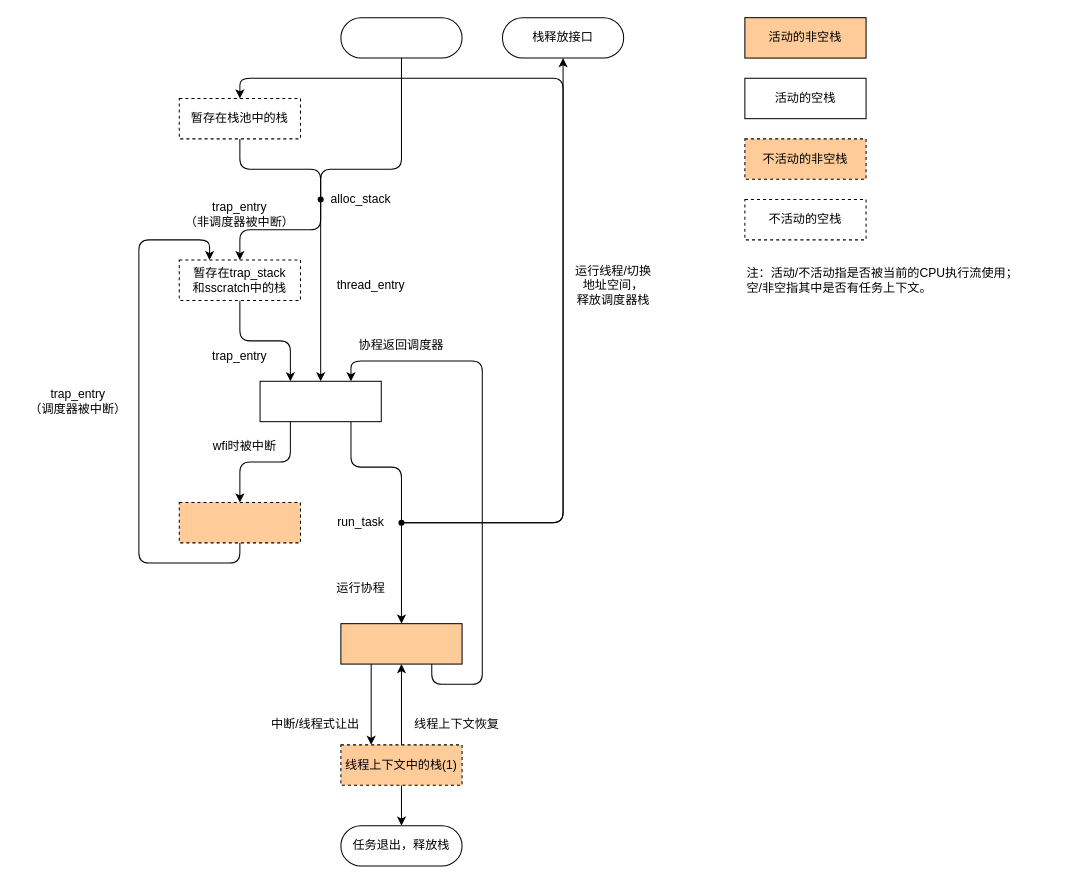
Image size: 1065x884. Some labels were removed from this diagram. Here are the shapes that lost their labels. From the top down, the box of each, then its label:
(340, 17, 462, 58): 栈分配接口
(259, 380, 381, 422): 调度器使用的 栈
(178, 501, 300, 543): 线程上下文中的栈(2)
(340, 623, 462, 664): 被任务使用的栈
